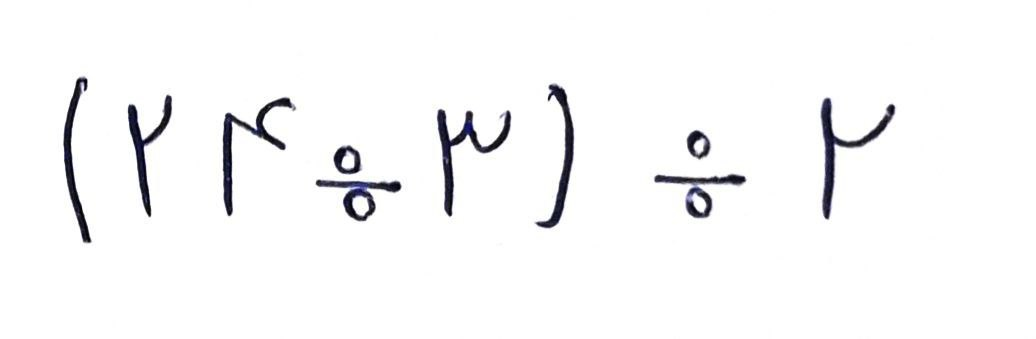character: (820, 96, 894, 222), (225, 97, 296, 216), (653, 130, 745, 218), (435, 108, 510, 215), (316, 147, 400, 219), (536, 83, 576, 227), (127, 95, 173, 215), (62, 77, 91, 243)
